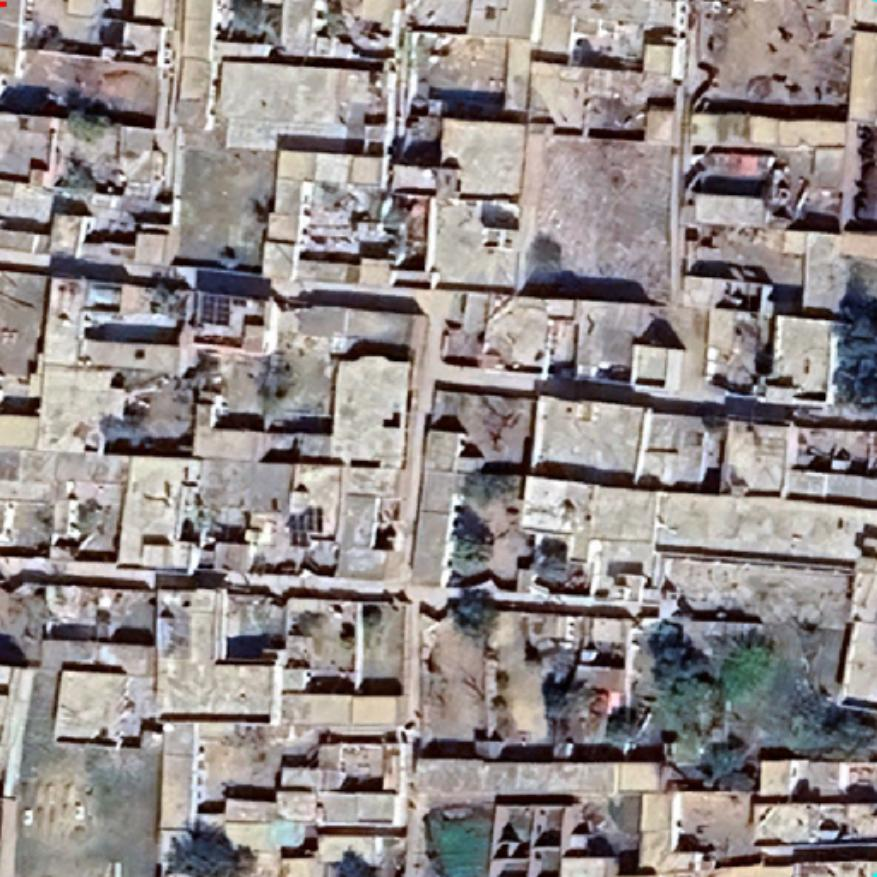Solarpanel: (284, 502, 328, 550), (194, 287, 234, 329)
